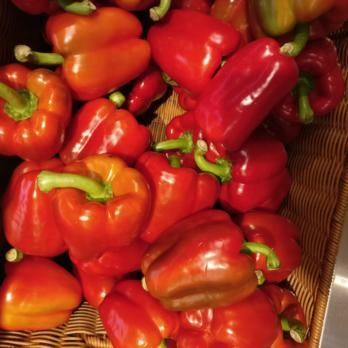Capsicum: (0, 164, 293, 348), (0, 53, 293, 164), (30, 3, 348, 65)
